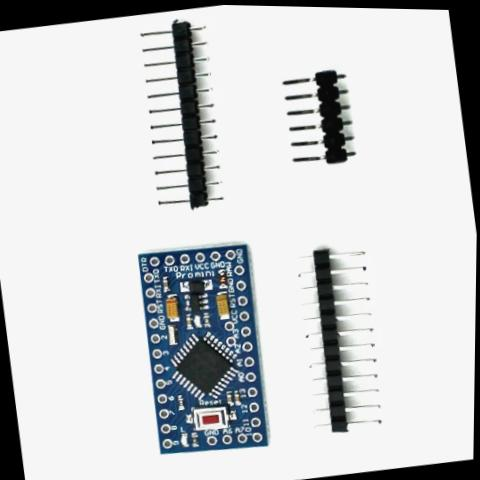Arduino-Pro-Mini: (101, 223, 285, 480)
